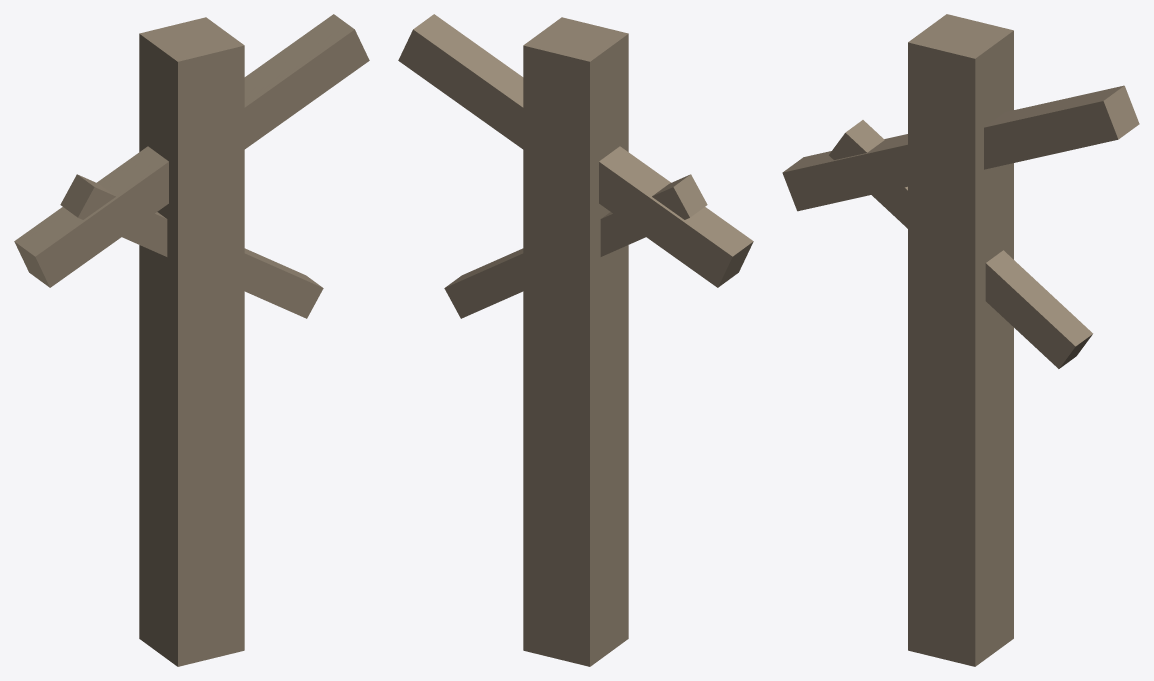
File: tree_dead.gltf
3 renders of one model, left to right at view 1: azimuth 30°, elevation 25°; view 2: azimuth 150°, elevation 25°; view 3: azimuth 330°, elevation 25°, orthographic.
Size of the model in its own units: 1.1 by 1.9 by 0.22.
